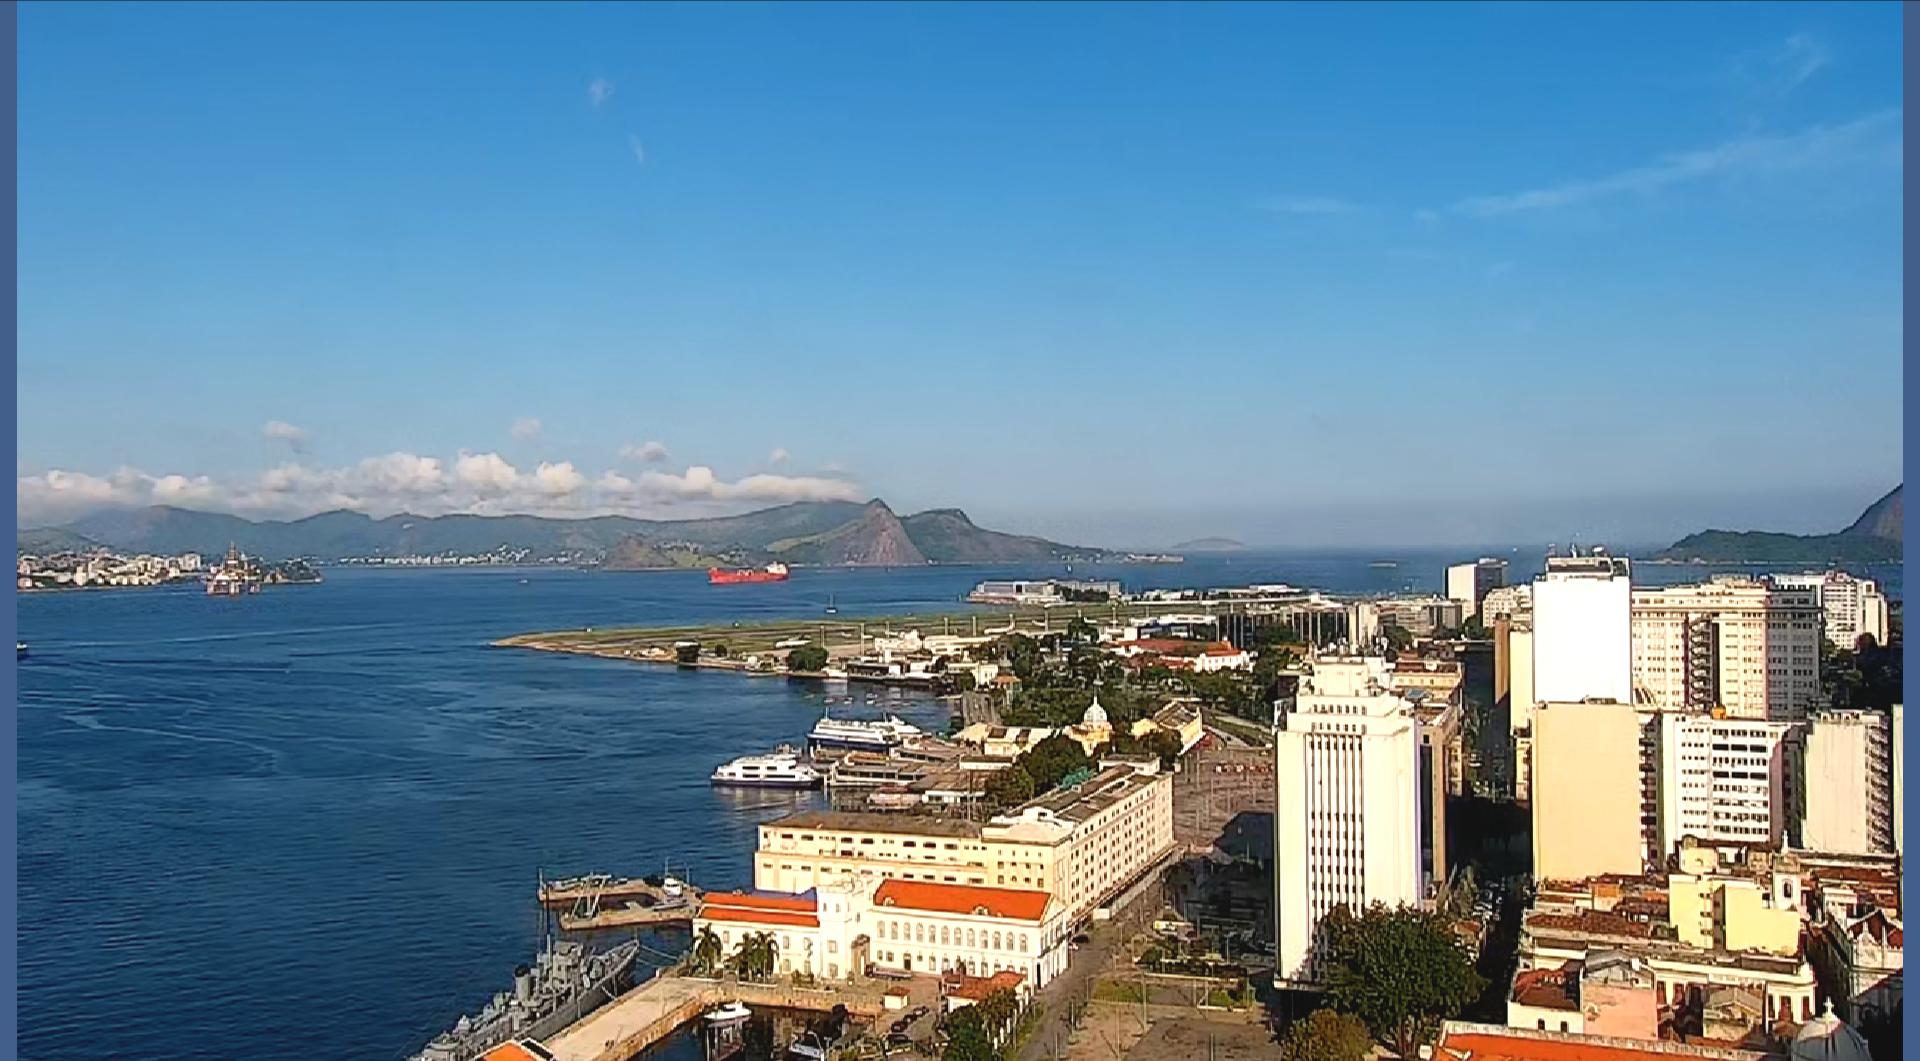Ship1: (707, 742, 824, 792), (807, 706, 930, 753)
Ship2: (705, 554, 794, 585)
Ship3: (824, 592, 839, 615)
